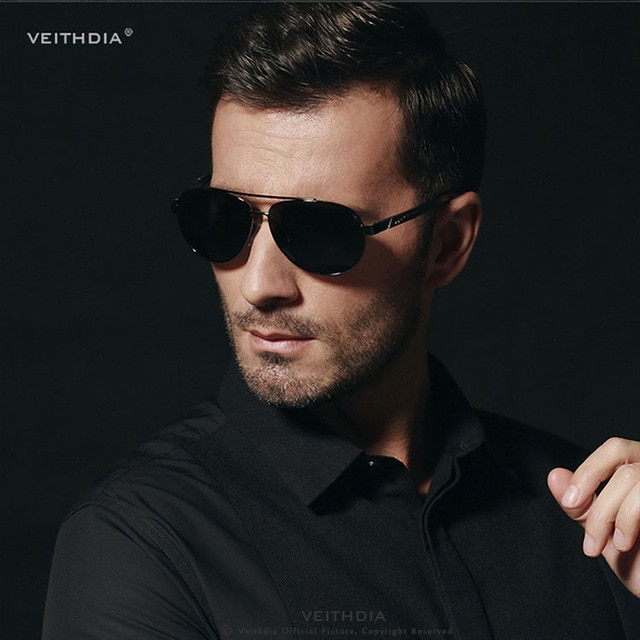sunglasses: (148, 176, 443, 307)
